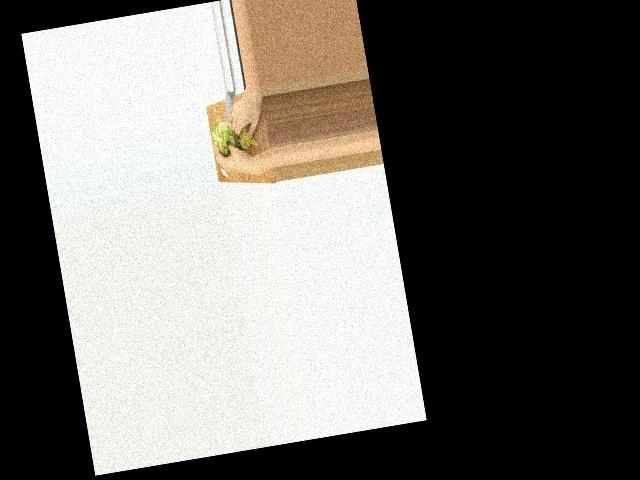lettuce: (211, 119, 239, 156)
